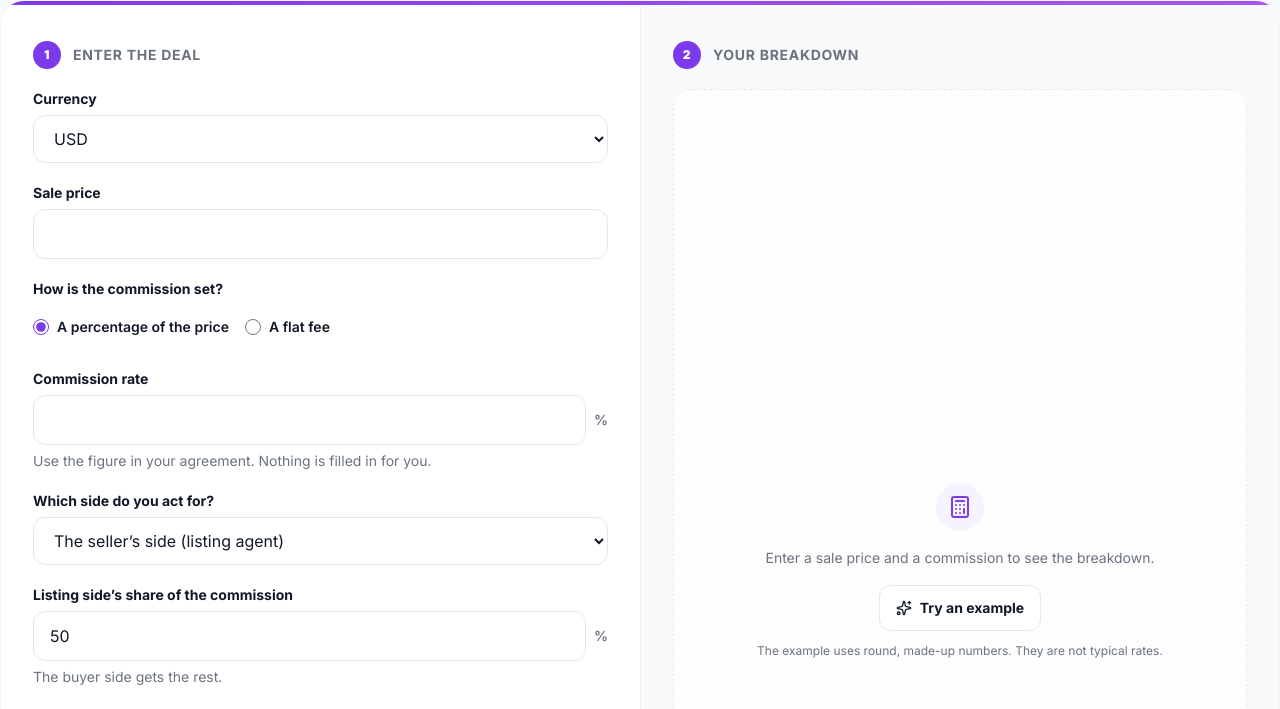
Test case: CommissionCalculator › says what is wrong with a number instead of showing a result
Type "1000000" into the field labelled "Sale price".
click(320, 234); type("1000000")  # box [33, 209, 608, 259]
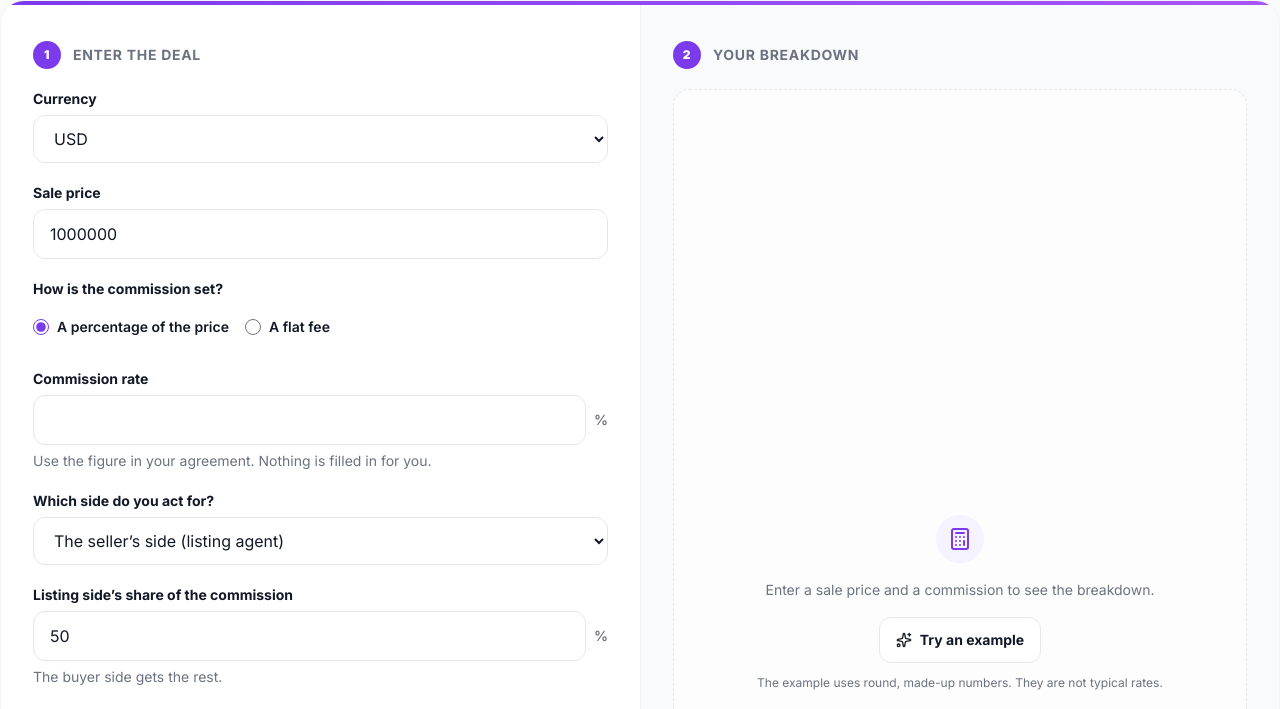
Type "250" into the field labelled "Commission rate".
click(309, 420); type("250")  # box [33, 395, 586, 445]
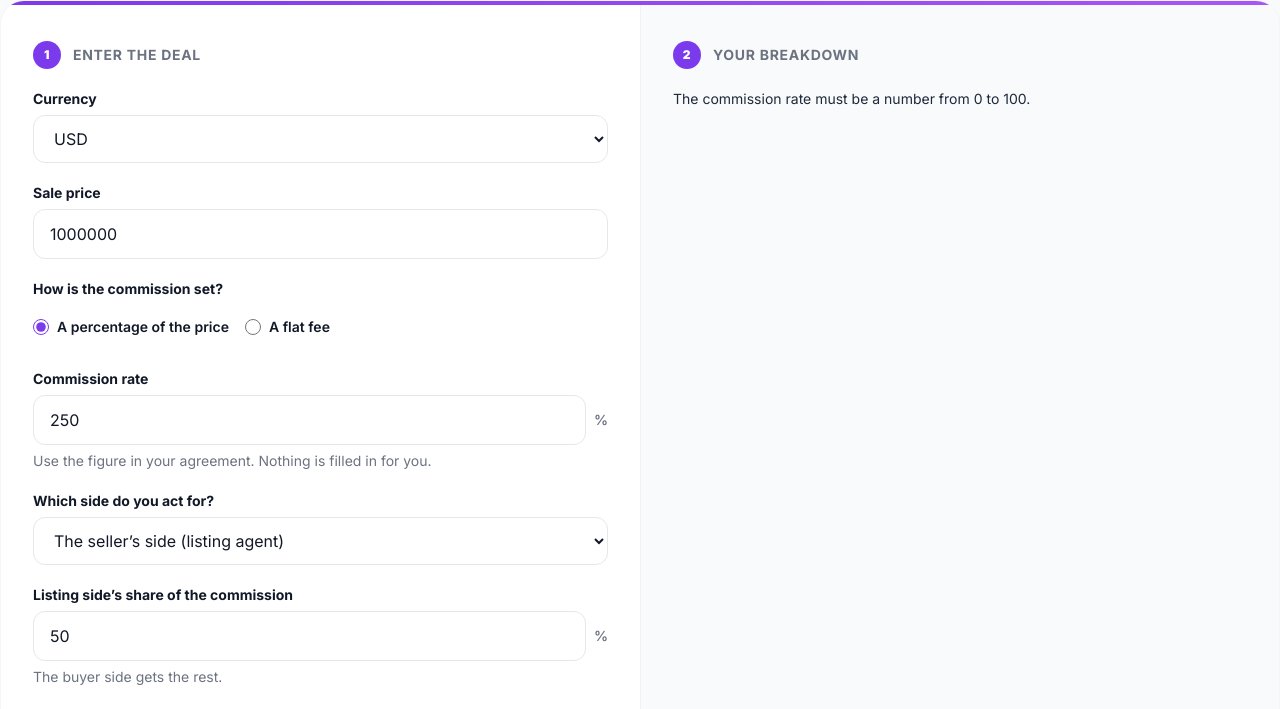
Expected: the message shows "must be a number from 0 to 100", [673, 90, 1030, 107]
